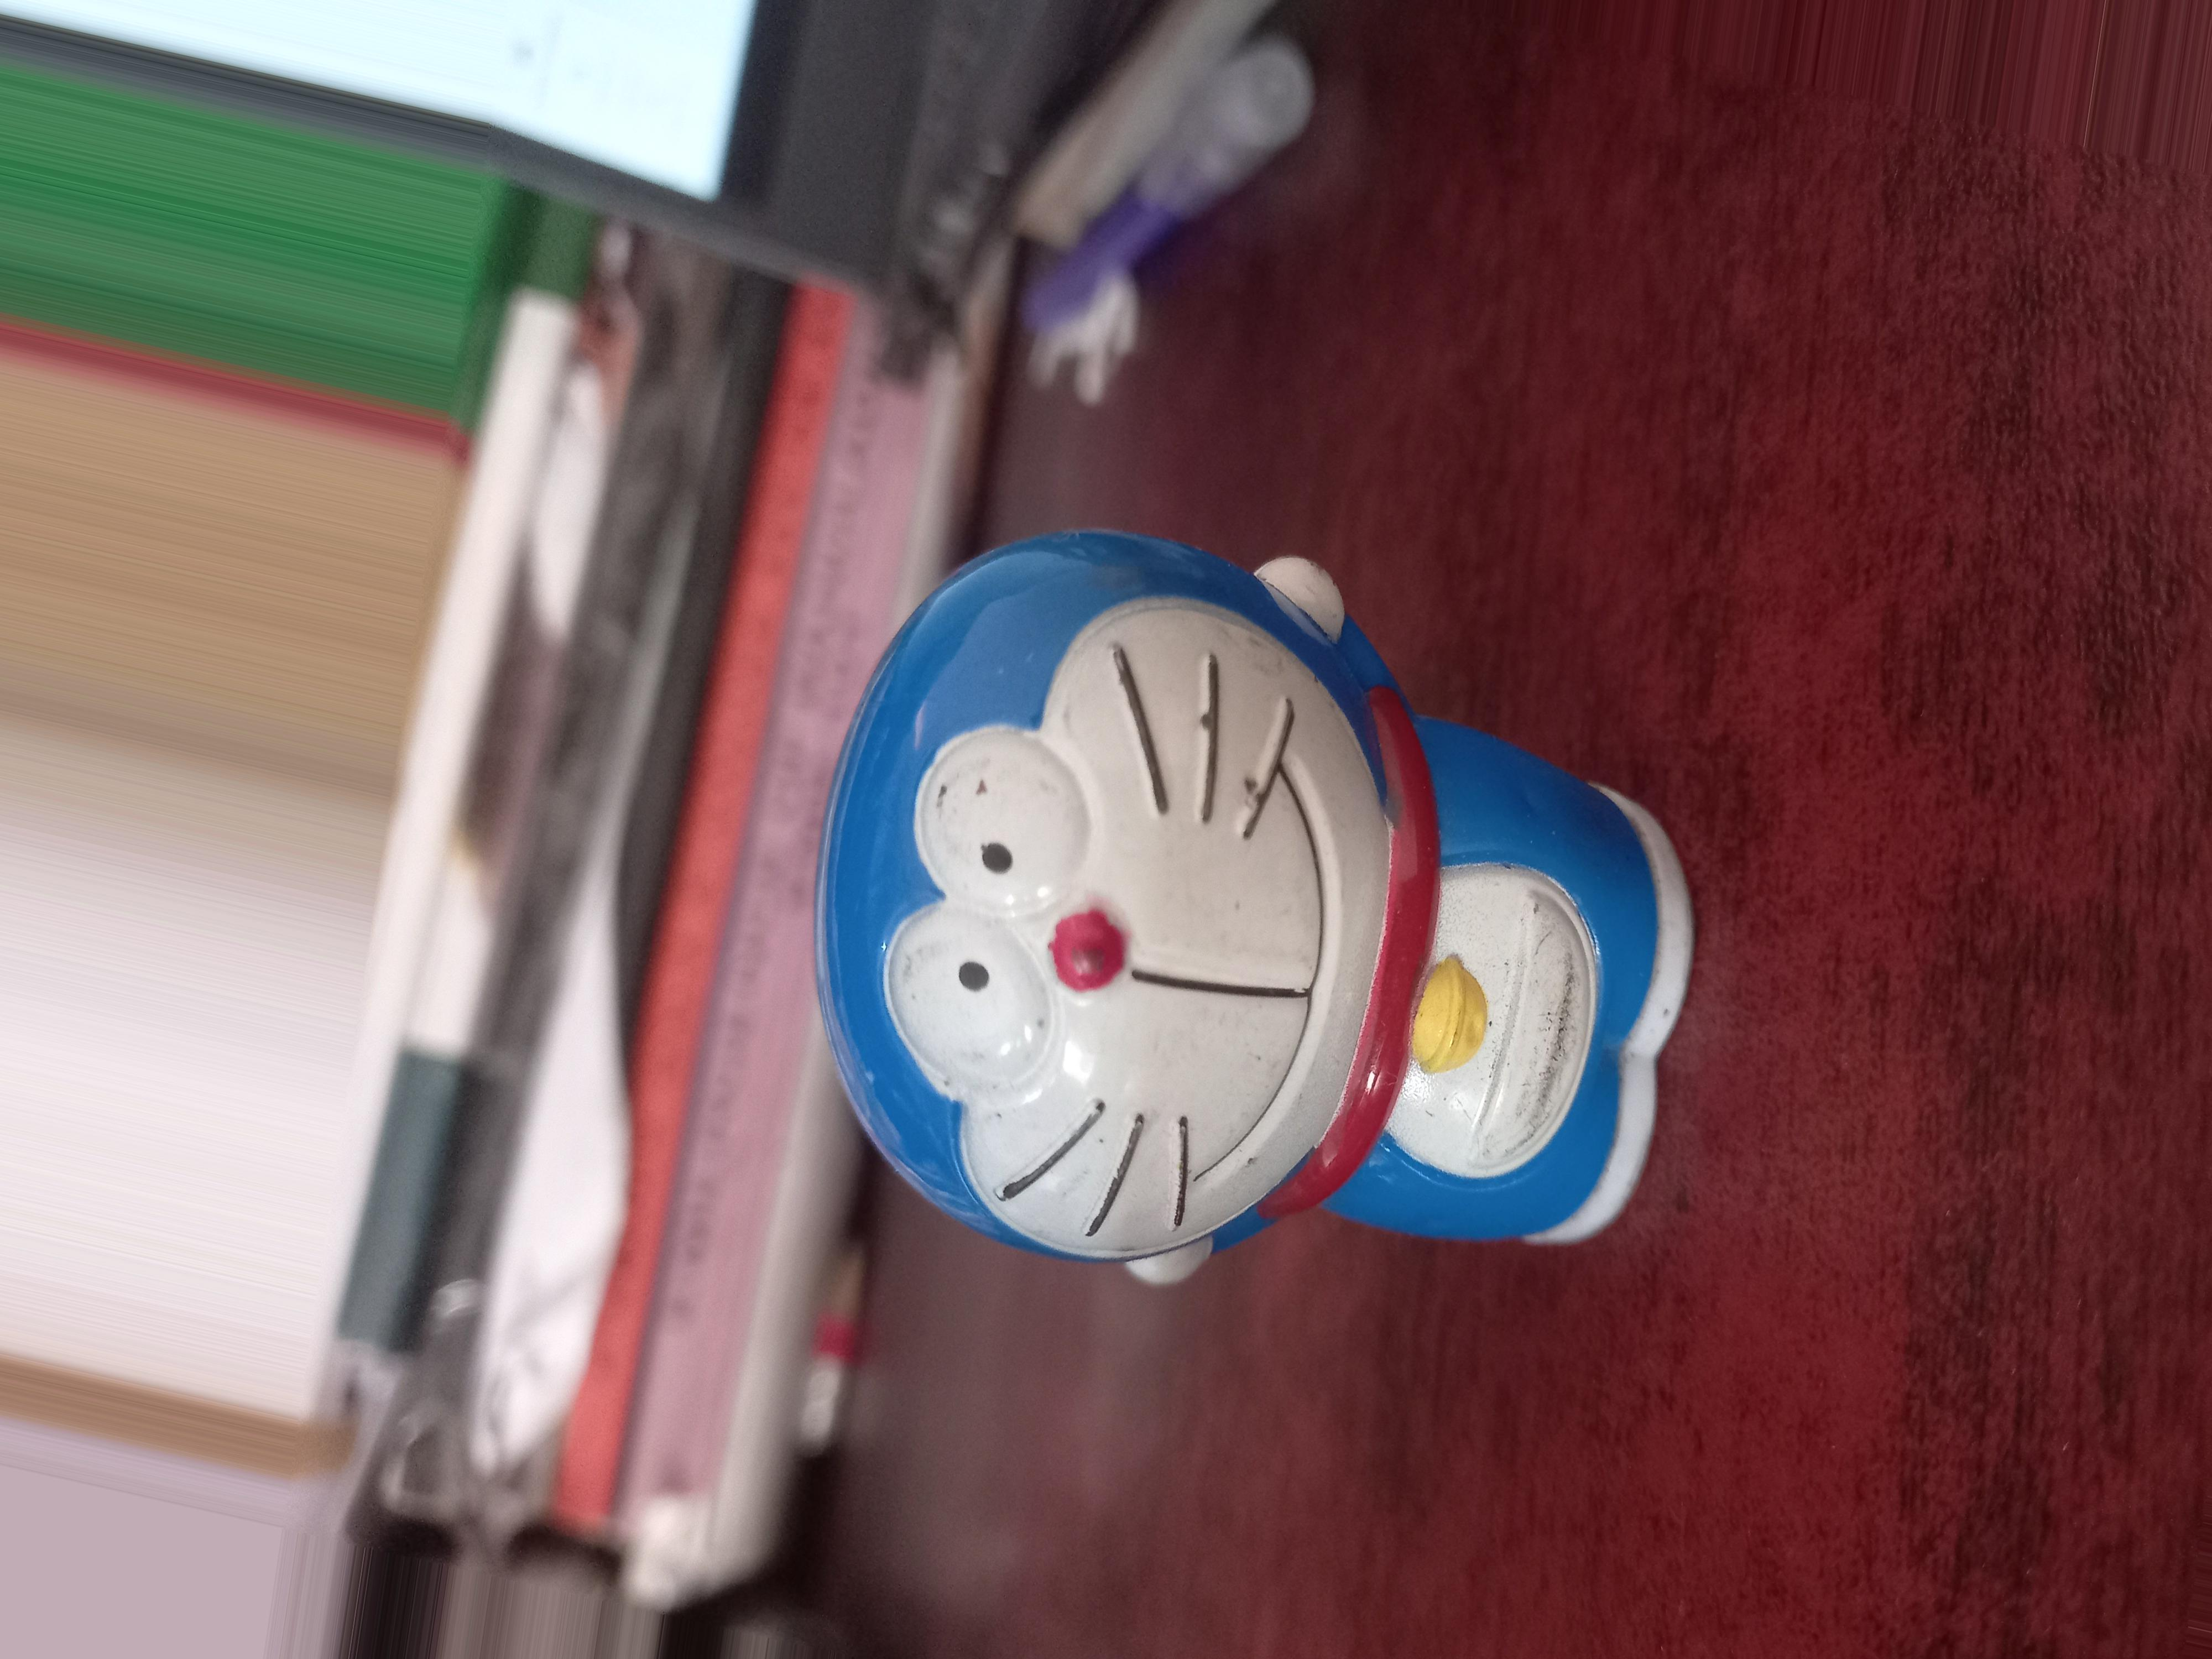doraemon: (766, 552, 1689, 1267)
